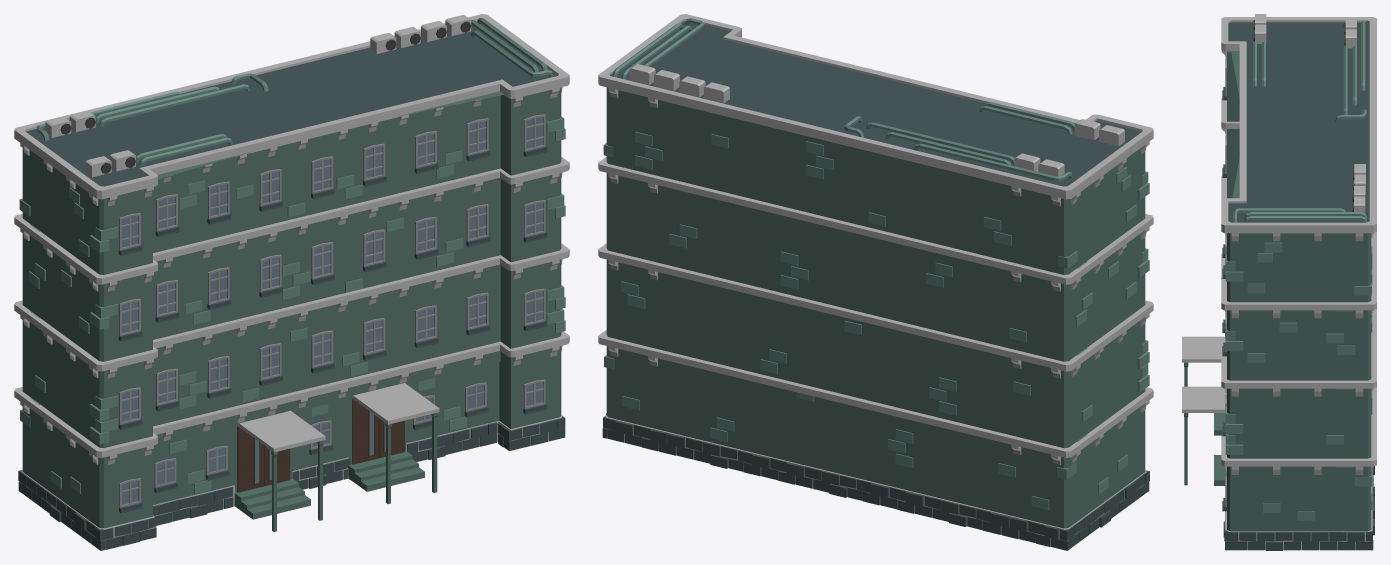
File: 4Story_Wide_2Doors_Mat.gltf
3 renders of one model, left to right at view 1: azimuth 30°, elevation 25°; view 2: azimuth 150°, elevation 25°; view 3: azimuth 270°, elevation 25°, orthographic. The views are drawn at different scales.
Parts seen in each view (by area): view 1: o 4Story_Wide_2Doors_Mat_Cube.013; view 2: o 4Story_Wide_2Doors_Mat_Cube.013; view 3: o 4Story_Wide_2Doors_Mat_Cube.013.
Boxes of the visible parts, box(x1,y1,x2,y2) form: o 4Story_Wide_2Doors_Mat_Cube.013: box(14, 14, 569, 550); o 4Story_Wide_2Doors_Mat_Cube.013: box(598, 14, 1153, 550); o 4Story_Wide_2Doors_Mat_Cube.013: box(1182, 14, 1376, 550).
Bounding box in the file's own units: 6.83 × 5.15 × 2.7.
